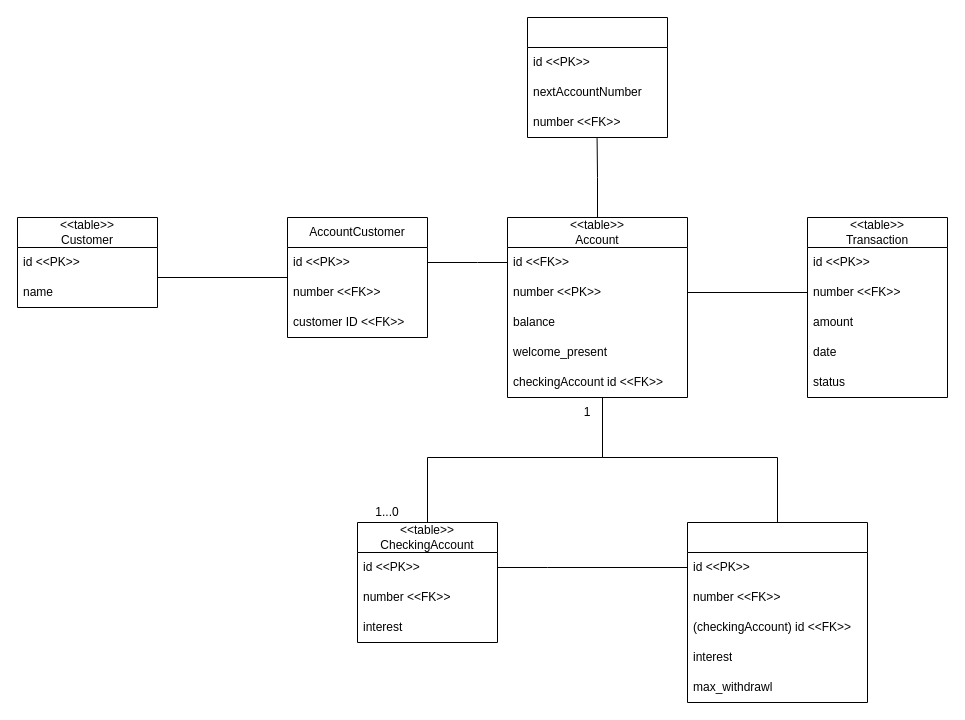
Image size: 965x720. Some labels were removed from this diagram. Each missing label, with the box of its shape:
<<table>> Bank: (526, 16, 668, 138)
<<table>> SavingsAccount: (686, 522, 868, 702)
